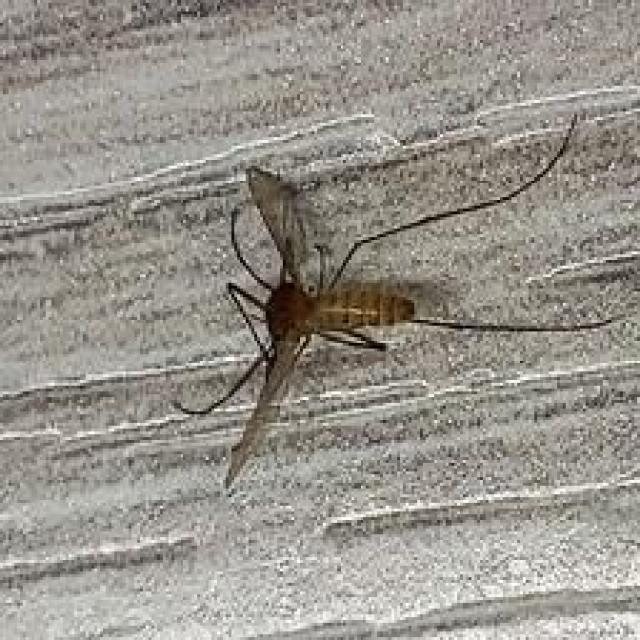Culex: (169, 109, 637, 494)
